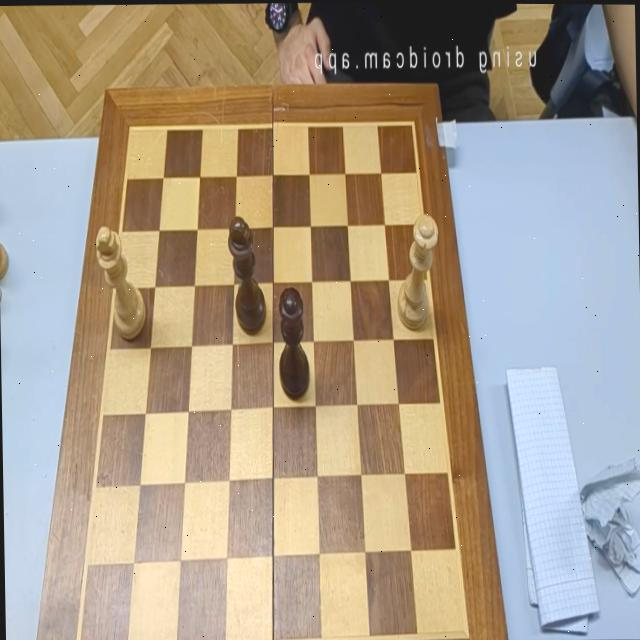black_king: (227, 215, 266, 335)
black_queen: (278, 286, 310, 400)
white_king: (95, 225, 146, 339)
white_queen: (395, 212, 440, 330)
